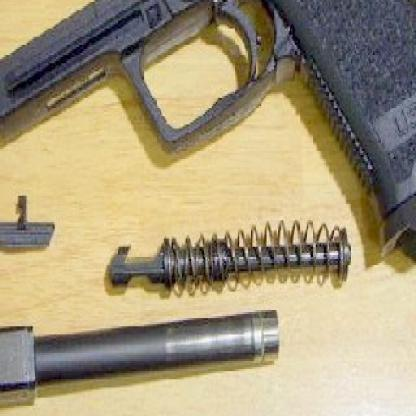gun: (0, 0, 415, 290)
